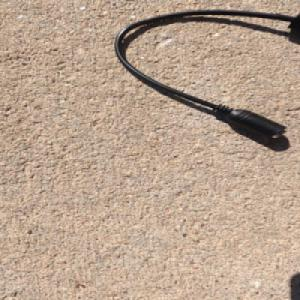Wire: (112, 8, 300, 139)
